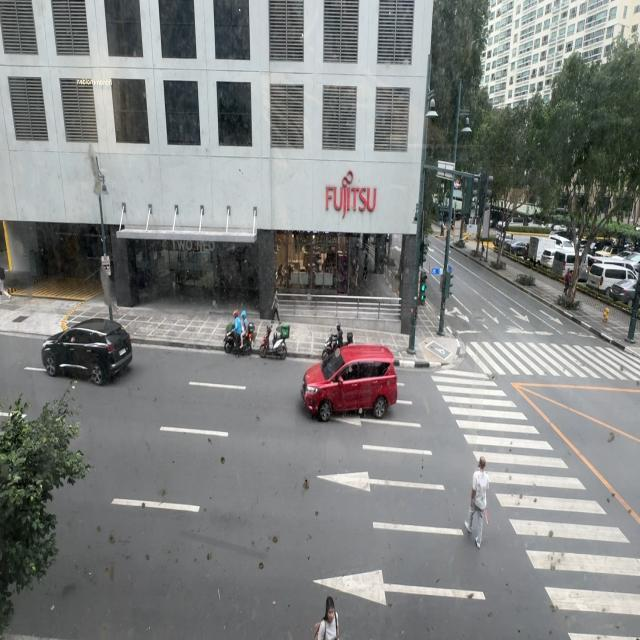jaywalking: (460, 453, 490, 551), (313, 589, 342, 640)
